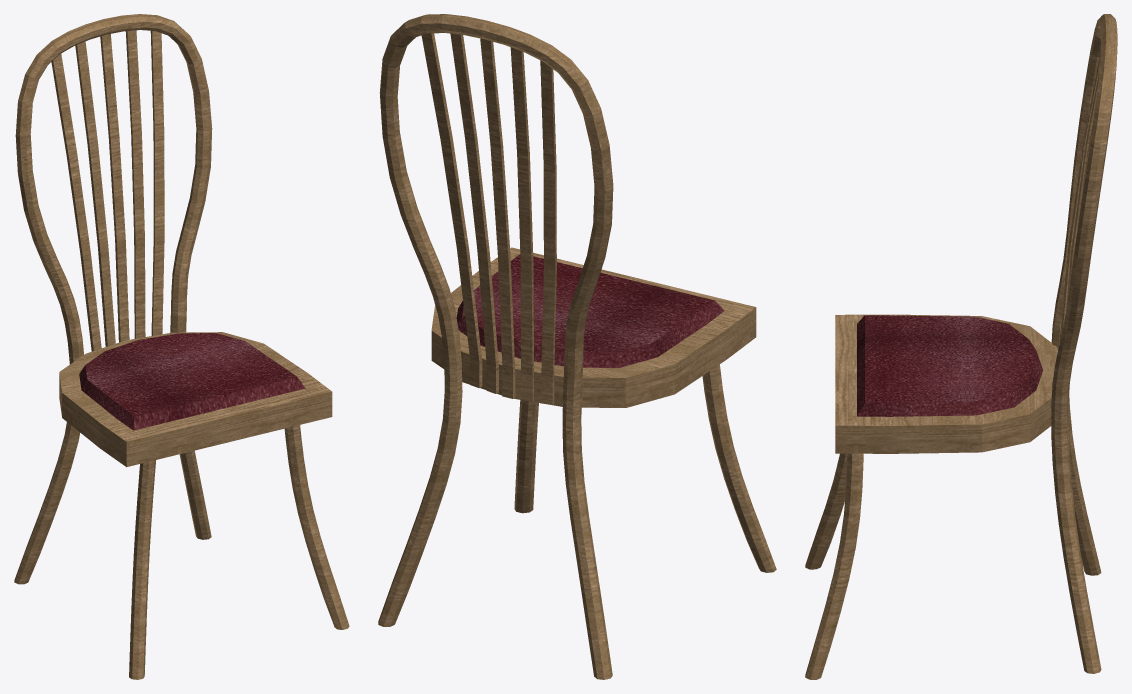
The model's file is Cheir.fbx.
3 views of the same model, side by side, from view 1: azimuth 30°, elevation 25°; view 2: azimuth 150°, elevation 25°; view 3: azimuth 270°, elevation 25° (orthographic). The views are drawn at different scales.
Parts seen in each view (by area): view 1: Cheir; view 2: Cheir; view 3: Cheir.
Part boxes in pixels (left/top/right/bottom): Cheir: left=14, top=14, right=349, bottom=679; Cheir: left=378, top=14, right=776, bottom=679; Cheir: left=805, top=14, right=1117, bottom=679.
Bounding box in the file's own units: 567 × 1327 × 639.
Materials: 1 (1 with a texture image).
